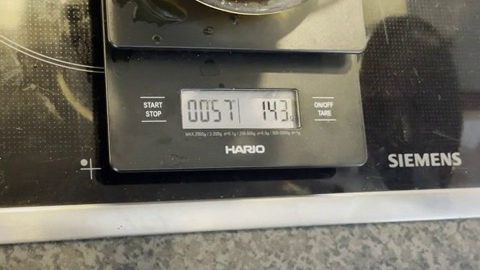display: (181, 89, 298, 127)
